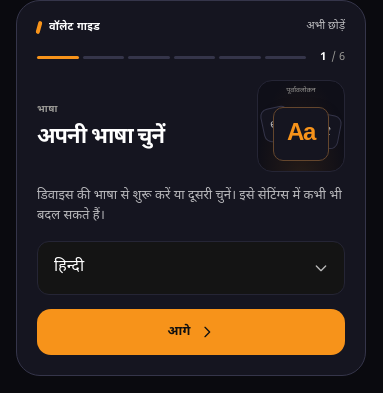
Scenario: inline wallet guide › lets the language choice immediately update the guide and persists the override
Check: the heading "अपनी भाषा चुनें" is shown, box [37,123,164,152]
Replace the text in the dropdown named "भाषा" with "English": (191, 268) [37,241,345,295]
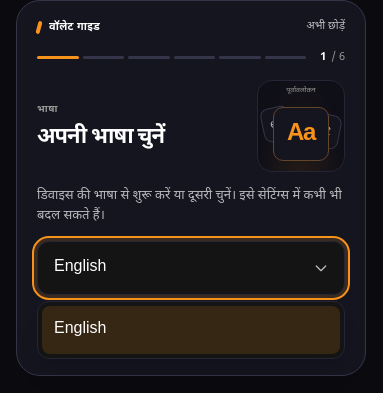
Click the option "English": (80, 330) [42,306,340,354]
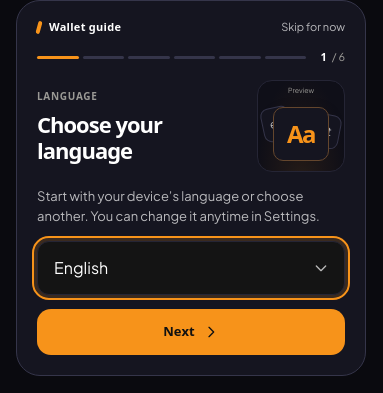
Check: the heading "Choose your language" is shown, box [37,110,162,165]
